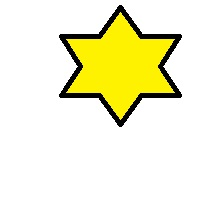star: (60, 5, 183, 129)
